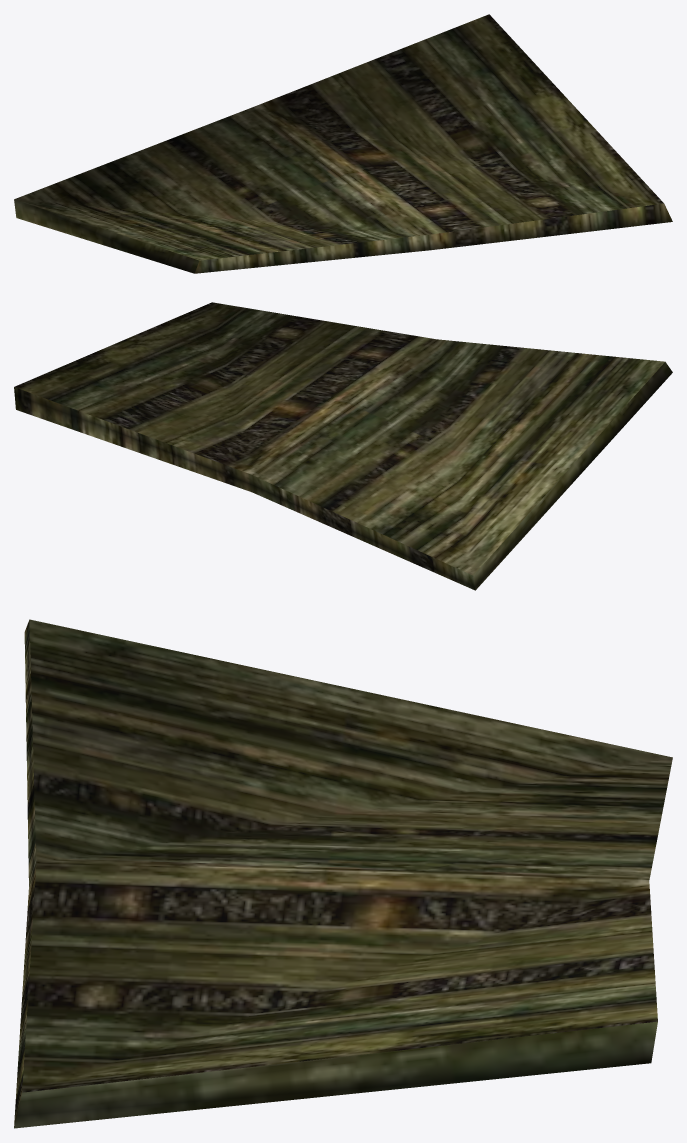
The model's file is PC_LOB_BRIDGE3.glb.
3 views of the same model, one above another, from view 1: azimuth 30°, elevation 25°; view 2: azimuth 150°, elevation 25°; view 3: azimuth 270°, elevation 25° (orthographic). The views are drawn at different scales.
Visible parts, largest first — view 1: Mesh; view 2: Mesh; view 3: Mesh.
Part boxes in pixels (bbox=[...]): Mesh: bbox=[14, 14, 672, 273]; Mesh: bbox=[14, 302, 672, 590]; Mesh: bbox=[14, 619, 672, 1128].
Bounding box in the file's own units: 3.84 × 0.7332 × 2.69.
Materials: 1 (1 with a texture image).
